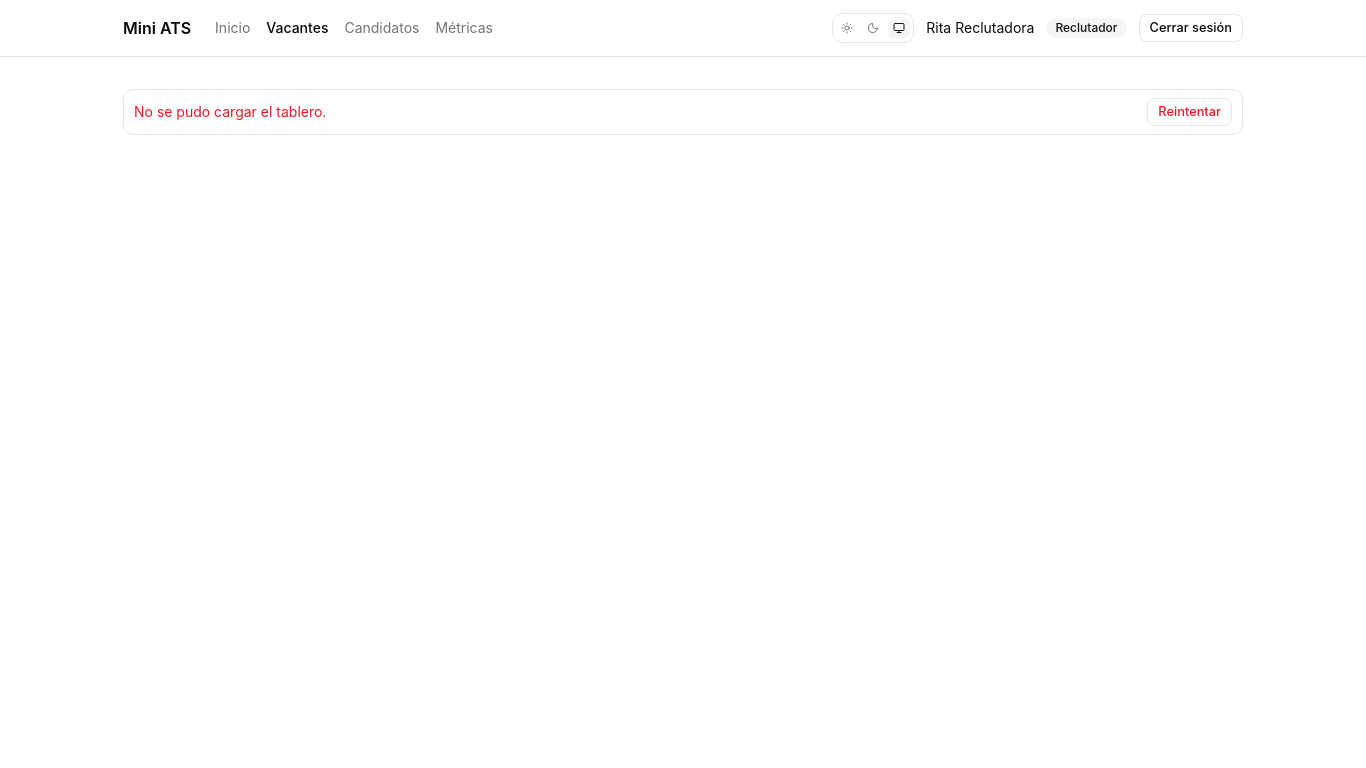
BoardPage › shows an error with retry
Expected: the text "No se pudo cargar el tablero." is shown, [134, 102, 326, 122]
Click the button "Reintentar" at (1190, 112), box [1147, 98, 1232, 126]
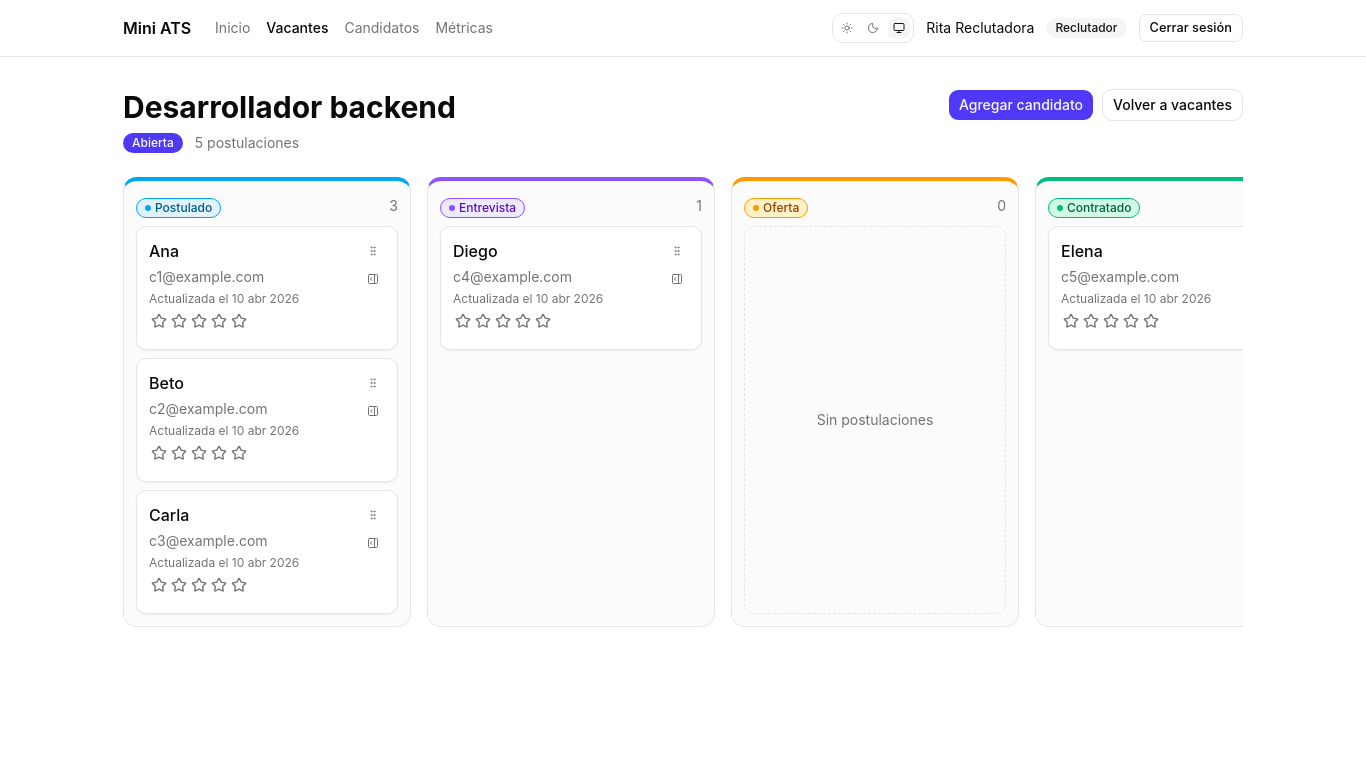
Now the heading "Desarrollador backend" is shown, box [123, 89, 456, 125]
